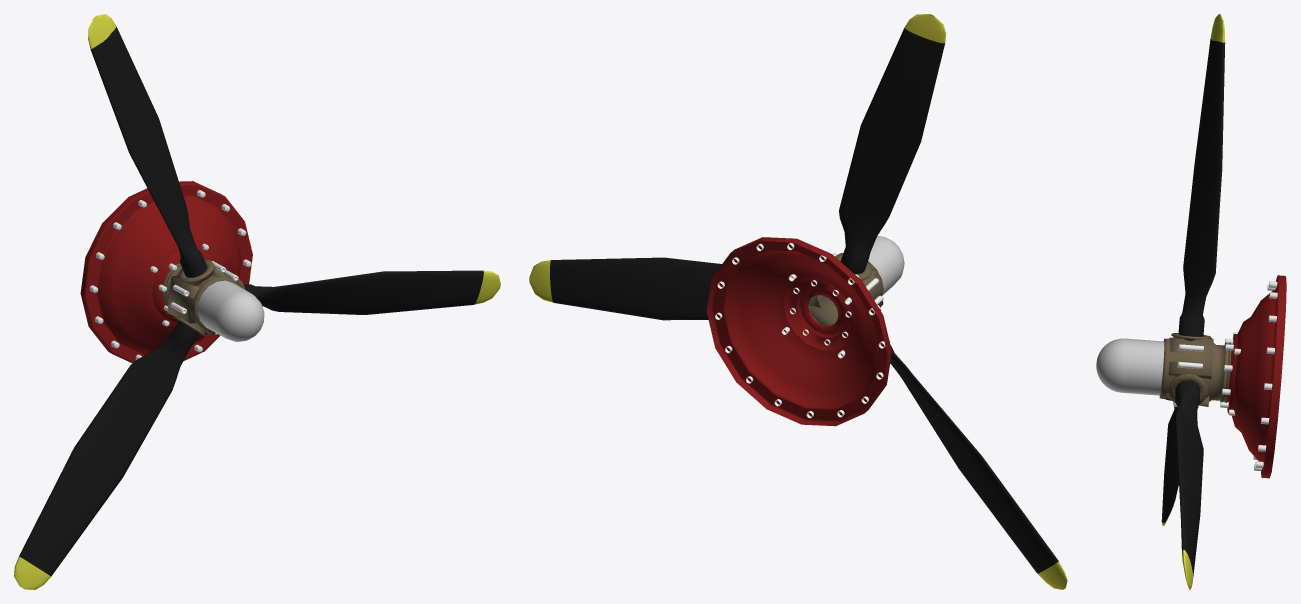
File: Parte_B.obj
3 renders of one model, left to right at view 1: azimuth 30°, elevation 25°; view 2: azimuth 150°, elevation 25°; view 3: azimuth 270°, elevation 25°, orthographic. The views are drawn at different scales.
Parts seen in each view (by area): view 1: pasted__polySurface196; view 2: pasted__polySurface196; view 3: pasted__polySurface196.
Boxes of the visible parts, x1,y1,x2,y2 form: pasted__polySurface196: [14, 14, 500, 589]; pasted__polySurface196: [529, 14, 1067, 589]; pasted__polySurface196: [1096, 14, 1286, 589].
Bounding box in the file's own units: 0.8471 × 0.873 × 0.2706.
